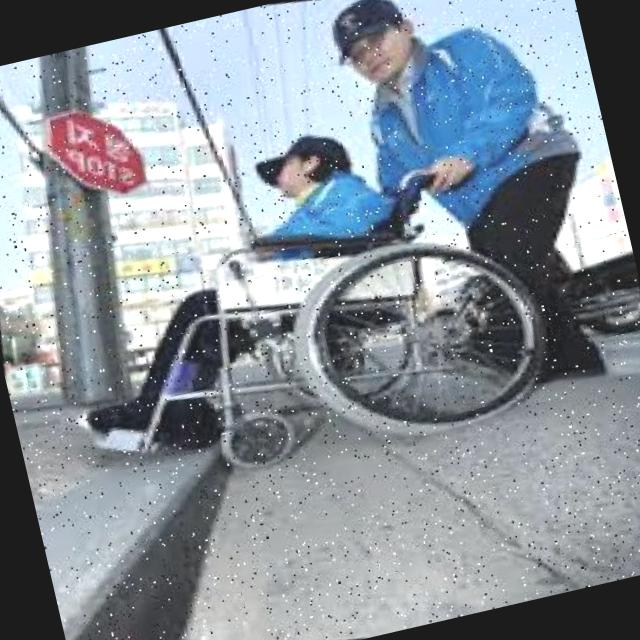Person: (14, 61, 584, 538), (281, 0, 640, 431)
